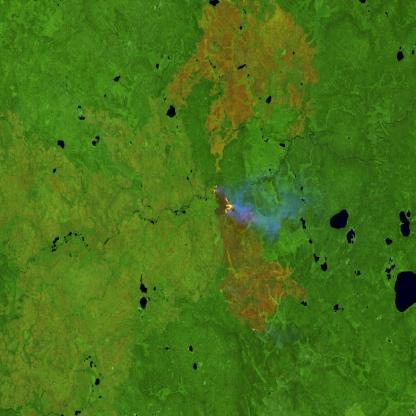fire: (207, 178, 238, 222)
